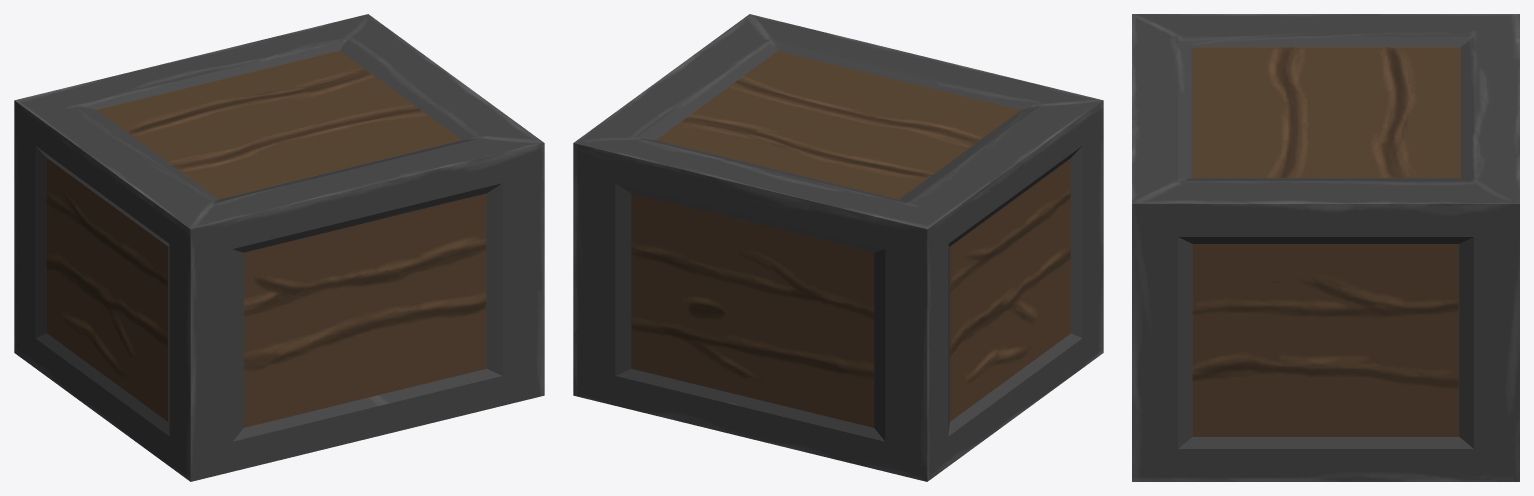
Rendered from Crate.fbx.
3 views of the same model, side by side, from view 1: azimuth 30°, elevation 25°; view 2: azimuth 150°, elevation 25°; view 3: azimuth 270°, elevation 25° (orthographic). The views are drawn at different scales.
Parts seen in each view (by area): view 1: Cube.004; view 2: Cube.004; view 3: Cube.004.
Boxes of the visible parts, x1,y1,x2,y2 form: Cube.004: [14, 14, 544, 481]; Cube.004: [573, 14, 1103, 481]; Cube.004: [1132, 14, 1519, 481].
Bounding box in the file's own units: 73.31 × 50 × 63.25.
Materials: 1 (1 with a texture image).
